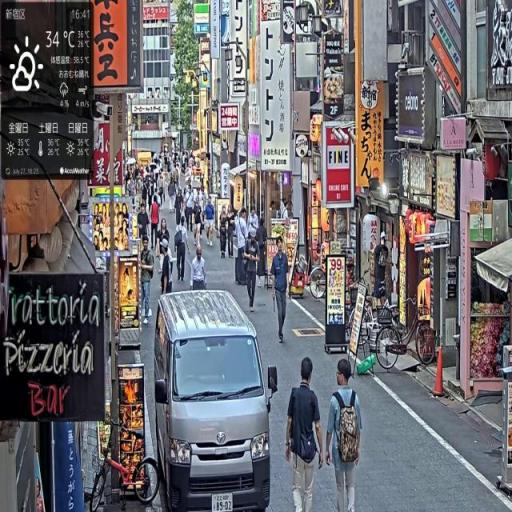person: (285, 357, 325, 512), (325, 357, 364, 512), (269, 235, 292, 345), (244, 232, 262, 313), (140, 235, 155, 325), (174, 219, 189, 285), (190, 245, 209, 291), (160, 243, 173, 298), (204, 196, 216, 248), (151, 193, 161, 251)
